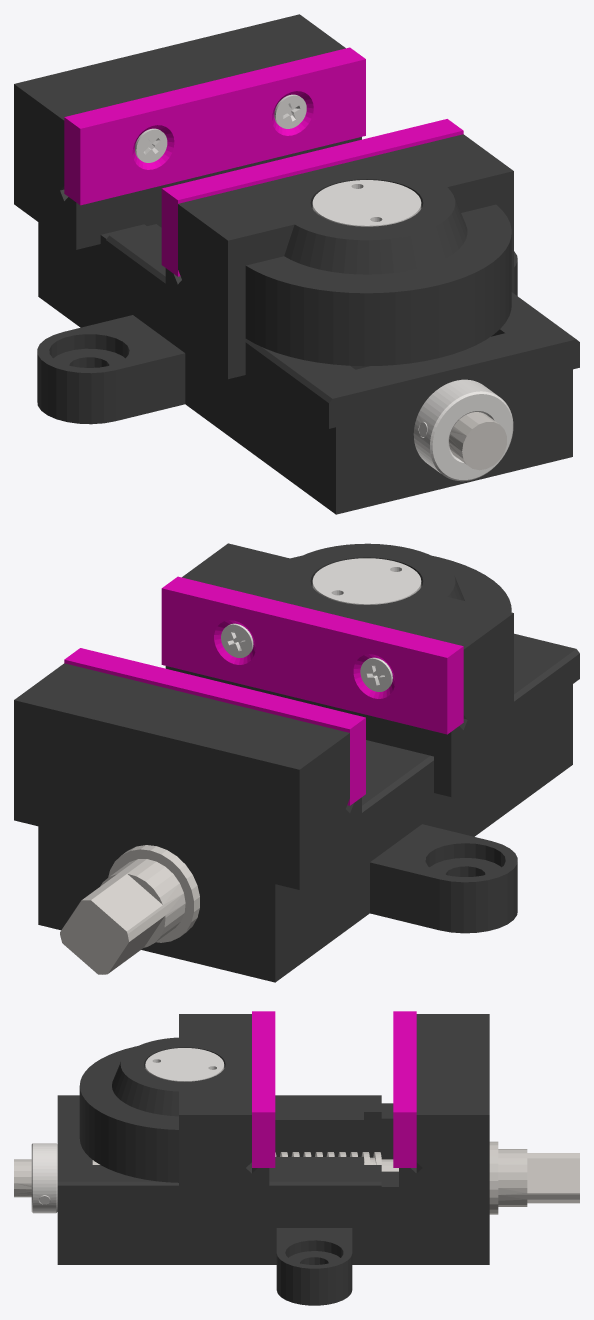
The model's file is jaw_vice.glb.
3 views of the same model, one above another, from view 1: azimuth 30°, elevation 25°; view 2: azimuth 150°, elevation 25°; view 3: azimuth 270°, elevation 25° (orthographic). The views are drawn at different scales.
Parts seen in each view (by area): view 1: Mesh_6, Mesh_12, Mesh_9, Mesh_10, Mesh_0, Mesh_11, Mesh_3, Mesh_4, Mesh_5; view 2: Mesh_6, Mesh_12, Mesh_10, Mesh_3, Mesh_9, Mesh_11, Mesh_8, Mesh_7; view 3: Mesh_6, Mesh_12, Mesh_3, Mesh_10, Mesh_9, Mesh_11, Mesh_0.
Part boxes in pixels (left/top/right/bottom): Mesh_6: left=14, top=14, right=579, bottom=514; Mesh_12: left=165, top=134, right=513, bottom=379; Mesh_9: left=64, top=47, right=365, bottom=205; Mesh_10: left=161, top=119, right=463, bottom=276; Mesh_0: left=413, top=379, right=513, bottom=481; Mesh_11: left=312, top=180, right=421, bottom=226; Mesh_3: left=449, top=412, right=506, bottom=470; Mesh_4: left=274, top=94, right=306, bottom=128; Mesh_5: left=135, top=128, right=167, bottom=162; Mesh_6: left=14, top=633, right=579, bottom=982; Mesh_12: left=165, top=543, right=513, bottom=797; Mesh_10: left=161, top=576, right=463, bottom=734; Mesh_3: left=60, top=845, right=199, bottom=974; Mesh_9: left=64, top=648, right=365, bottom=805; Mesh_11: left=312, top=558, right=421, bottom=604; Mesh_8: left=360, top=657, right=392, bottom=691; Mesh_7: left=221, top=623, right=253, bottom=657; Mesh_6: left=57, top=1014, right=489, bottom=1305; Mesh_12: left=79, top=1014, right=269, bottom=1215; Mesh_3: left=14, top=1141, right=579, bottom=1214; Mesh_10: left=252, top=1011, right=275, bottom=1167; Mesh_9: left=393, top=1011, right=416, bottom=1167; Mesh_11: left=145, top=1048, right=224, bottom=1081; Mesh_0: left=31, top=1143, right=57, bottom=1213.
Bounding box in the file's own units: 0.1338 × 0.061 × 0.194.
